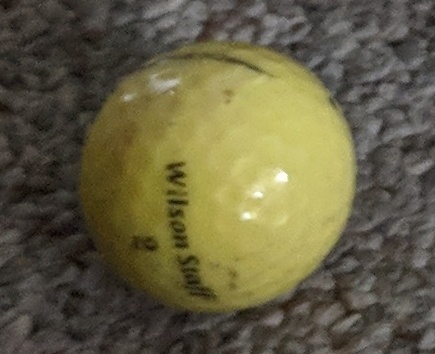ball: (76, 43, 359, 316)
